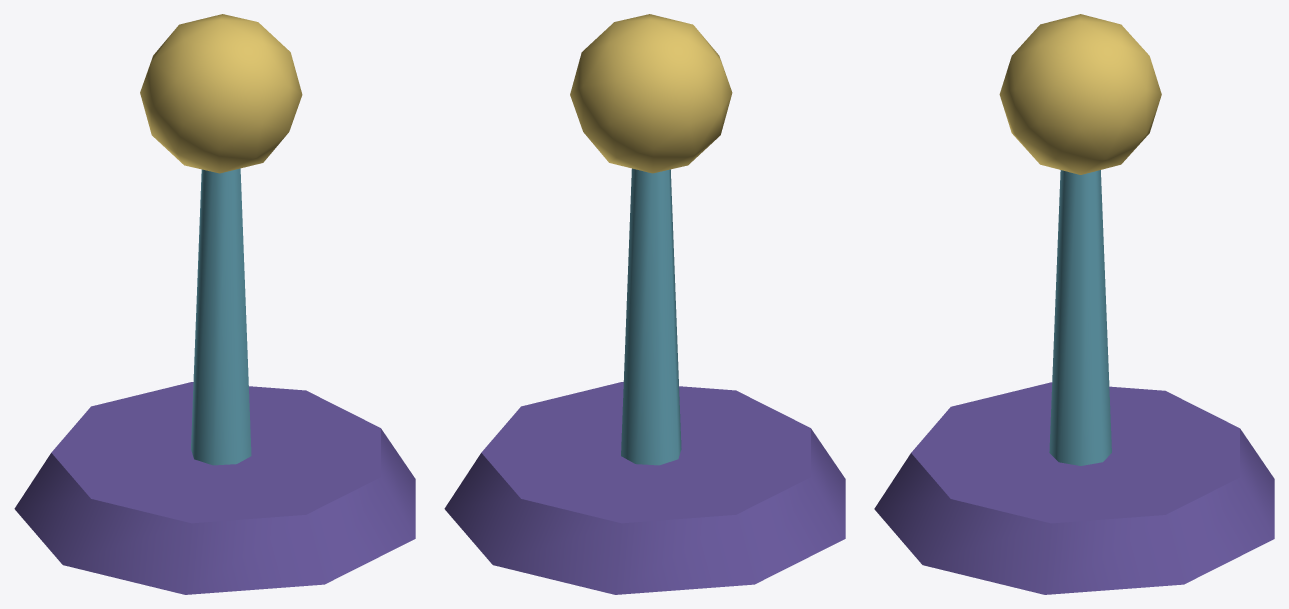
File: signal_beacon.glb
3 renders of one model, left to right at view 1: azimuth 30°, elevation 25°; view 2: azimuth 150°, elevation 25°; view 3: azimuth 270°, elevation 25°, orthographic.
Parts seen in each view (by area): view 1: beacon_base, beacon_light, beacon_mast; view 2: beacon_base, beacon_light, beacon_mast; view 3: beacon_base, beacon_light, beacon_mast.
Part boxes in pixels (left/top/right/bottom): beacon_base: left=14, top=382, right=415, bottom=594; beacon_light: left=140, top=14, right=302, bottom=173; beacon_mast: left=191, top=168, right=251, bottom=465; beacon_base: left=444, top=382, right=845, bottom=594; beacon_light: left=570, top=14, right=732, bottom=173; beacon_mast: left=621, top=168, right=681, bottom=465; beacon_base: left=874, top=382, right=1274, bottom=594; beacon_light: left=999, top=14, right=1161, bottom=174; beacon_mast: left=1049, top=170, right=1111, bottom=465.
Size of what is drawn, in the model's own units: 2.76 by 3.65 by 2.72.
